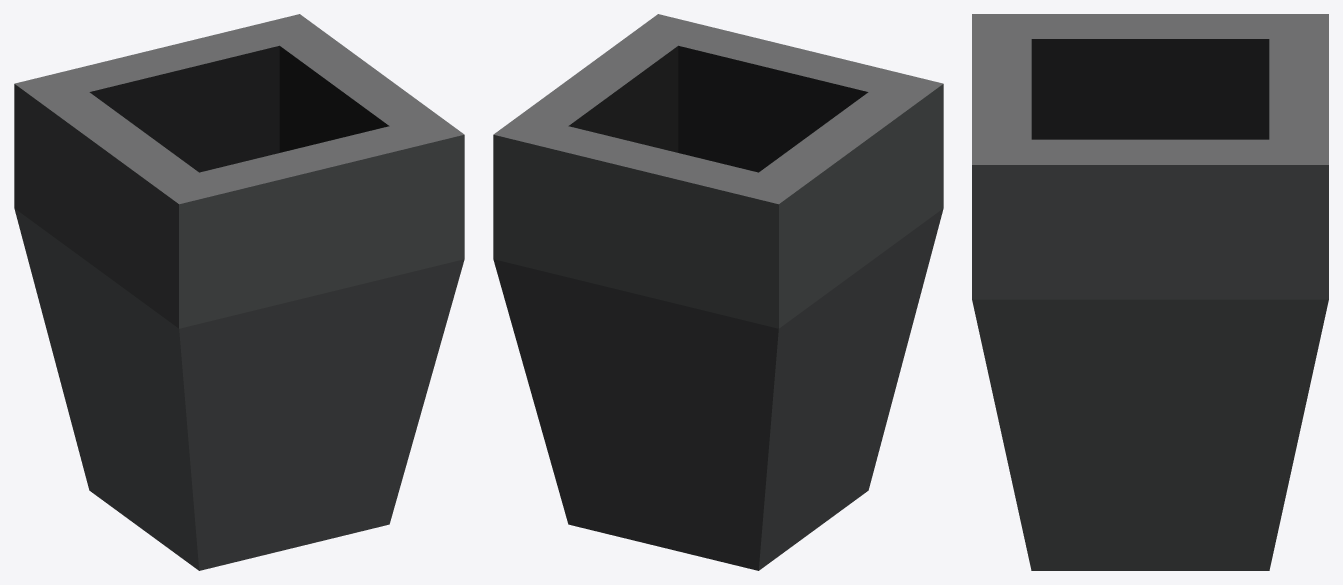
File: trashbin.gltf
3 renders of one model, left to right at view 1: azimuth 30°, elevation 25°; view 2: azimuth 150°, elevation 25°; view 3: azimuth 270°, elevation 25°, orthographic. The views are drawn at different scales.
Parts seen in each view (by area): view 1: cube; view 2: cube; view 3: cube.
Part boxes in pixels (box(x1,y1,x2,y2)): cube: box(14, 14, 464, 570); cube: box(493, 14, 943, 570); cube: box(972, 14, 1328, 570).
Size of the model in its own units: 0.375 by 0.5 by 0.375.
Materials: 1 (1 with a texture image).
